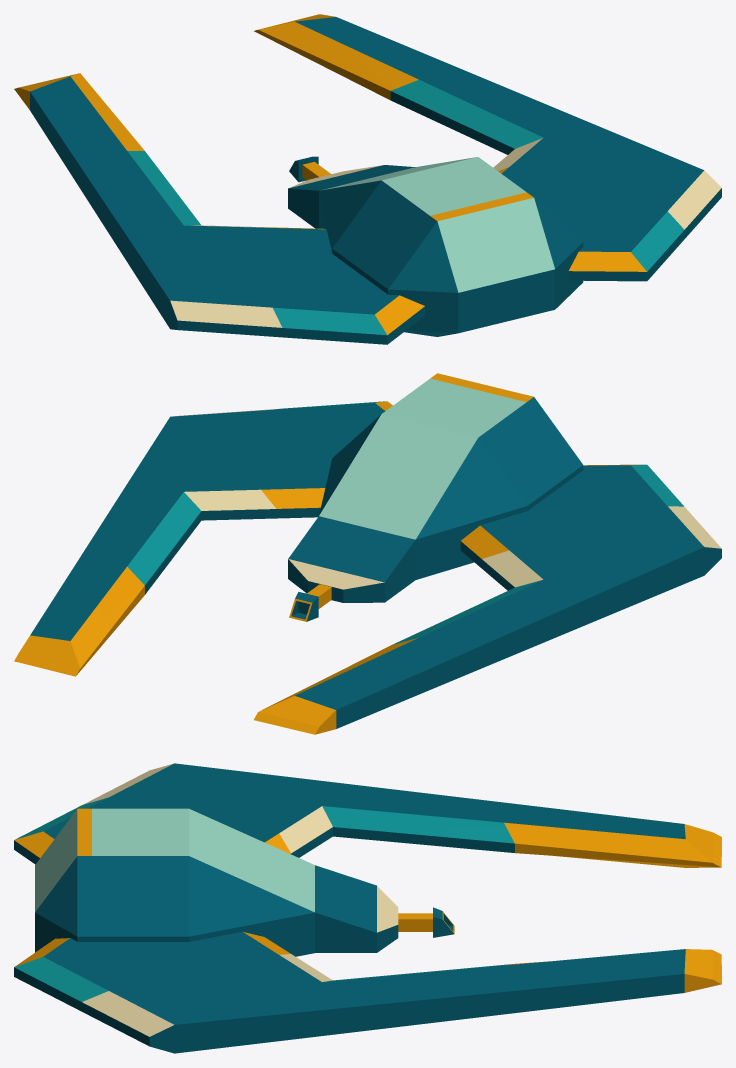
Rendered from enemies_2.fbx.
The picture shows the model from 3 angles, top to bottom: view 1: azimuth 30°, elevation 25°; view 2: azimuth 150°, elevation 25°; view 3: azimuth 270°, elevation 25°; orthographic projection.
Visible parts, largest first — view 1: ENEMY_2; view 2: ENEMY_2; view 3: ENEMY_2.
Part boxes in pixels (x1,y1,x2,y2): ENEMY_2: [14, 14, 721, 344]; ENEMY_2: [14, 373, 721, 734]; ENEMY_2: [14, 763, 721, 1053].
Size of the model in its own units: 180 by 36.63 by 202.
